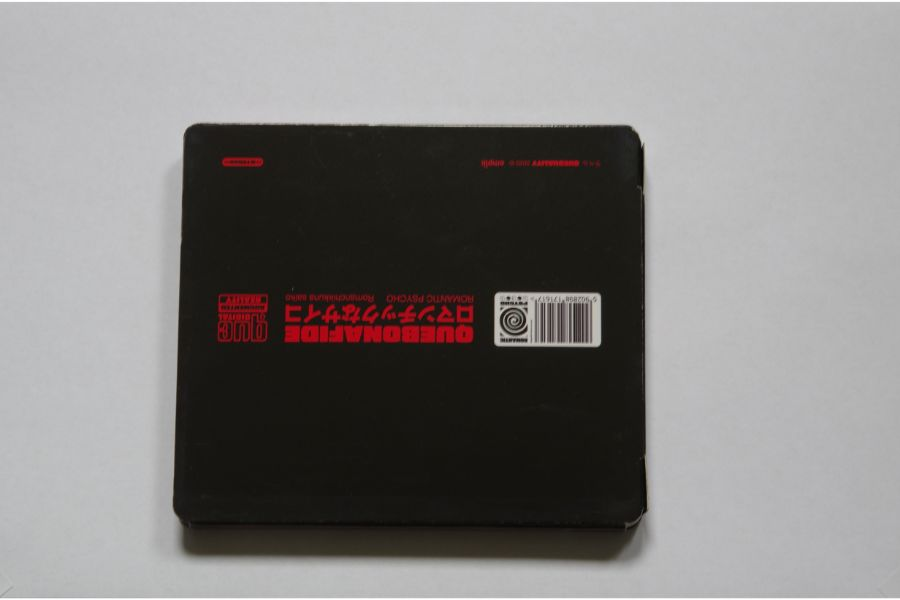album: (175, 124, 648, 532)
